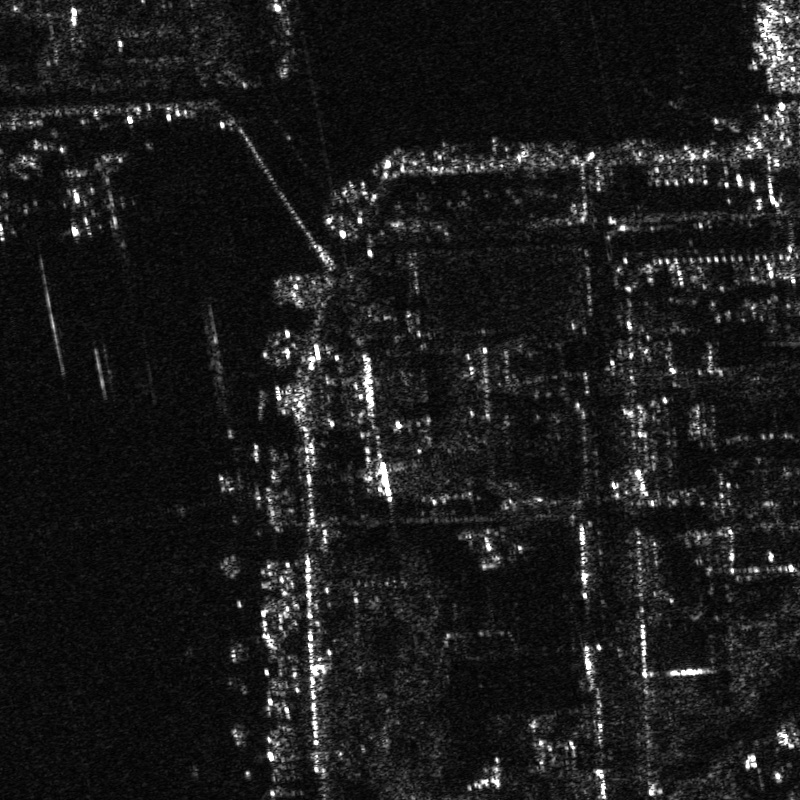Boeing737: (49, 164, 118, 243)
